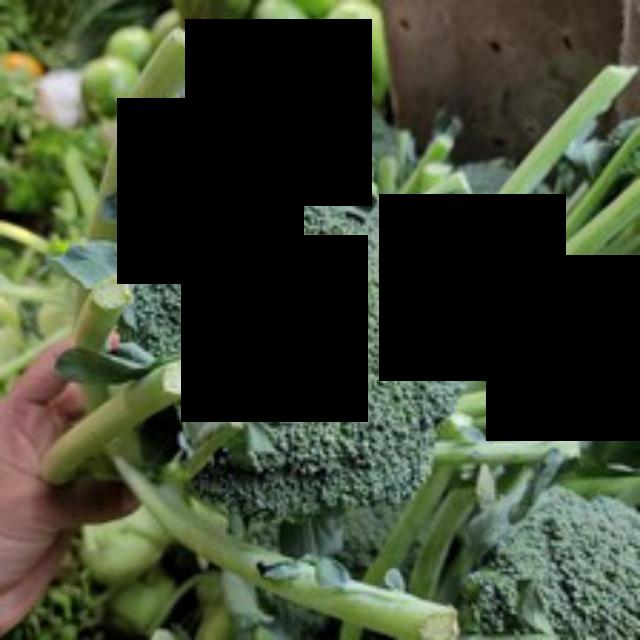broccoli: (99, 167, 465, 508)
